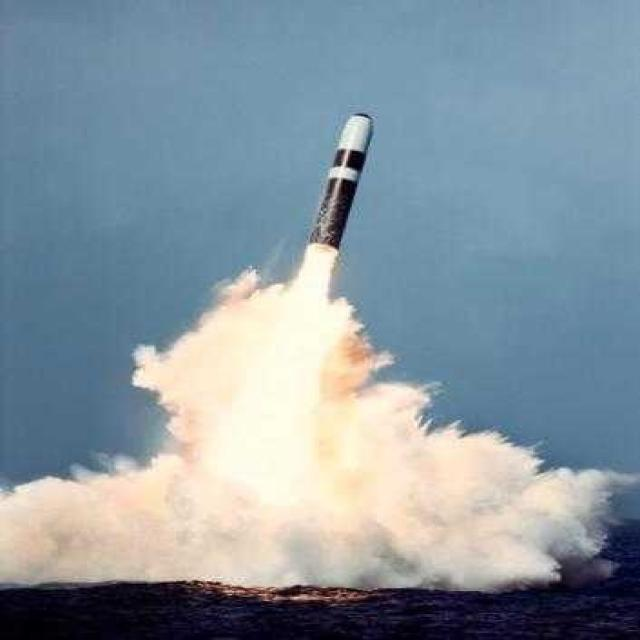missile: (301, 110, 376, 253)
